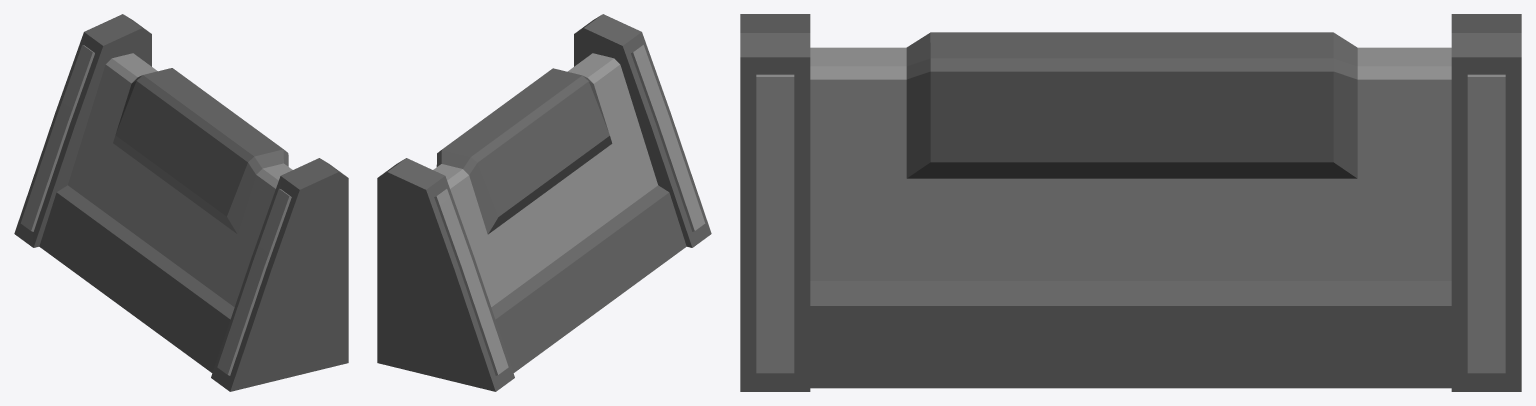
Rendered from Metal_Barrier_Half.fbx.
The picture shows the model from 3 angles, left to right: view 1: azimuth 30°, elevation 25°; view 2: azimuth 150°, elevation 25°; view 3: azimuth 270°, elevation 25°; orthographic projection. The views are drawn at different scales.
Visible parts, largest first — view 1: Metal_Barrier_Half; view 2: Metal_Barrier_Half; view 3: Metal_Barrier_Half.
Part boxes in pixels (x1,y1,x2,y2): Metal_Barrier_Half: [14, 14, 348, 391]; Metal_Barrier_Half: [377, 14, 711, 391]; Metal_Barrier_Half: [740, 14, 1521, 391].
Size of the model in its own units: 64.91 by 98.89 by 200.
